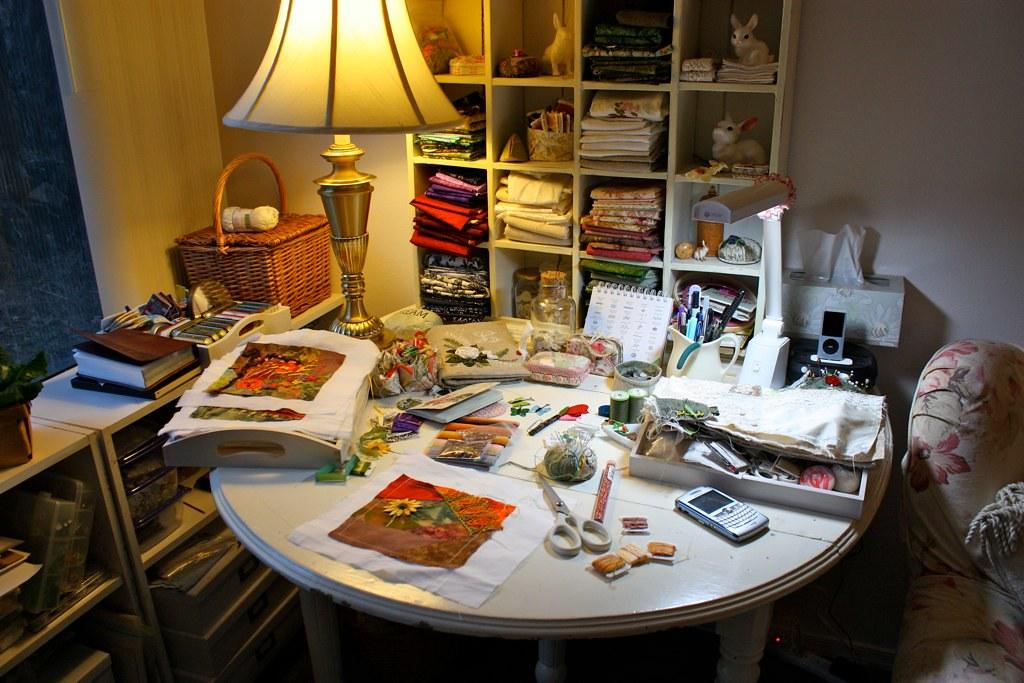table: (208, 341, 894, 681)
